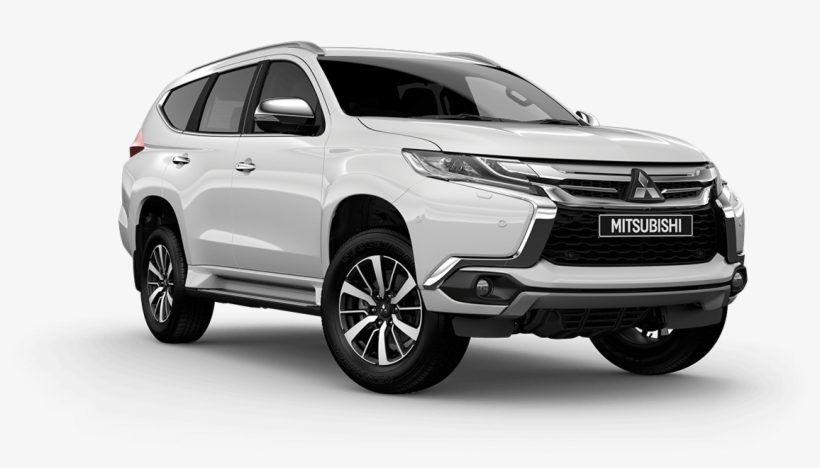car: (116, 36, 751, 395)
